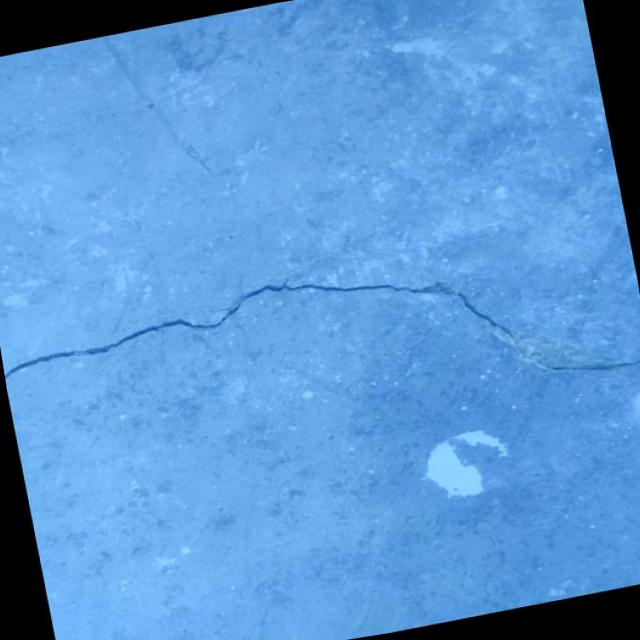crack: (0, 209, 640, 484)
